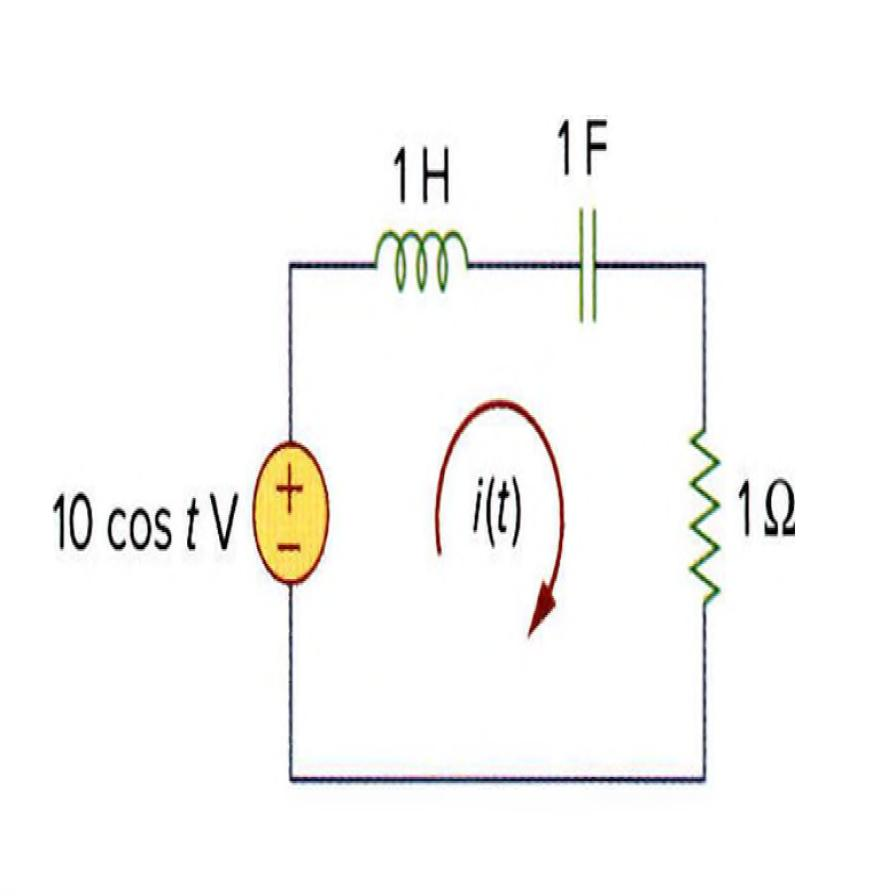C1: (556, 196, 623, 347)
L1: (358, 208, 478, 321)
R2: (679, 408, 726, 620)
V1: (252, 441, 327, 585)
